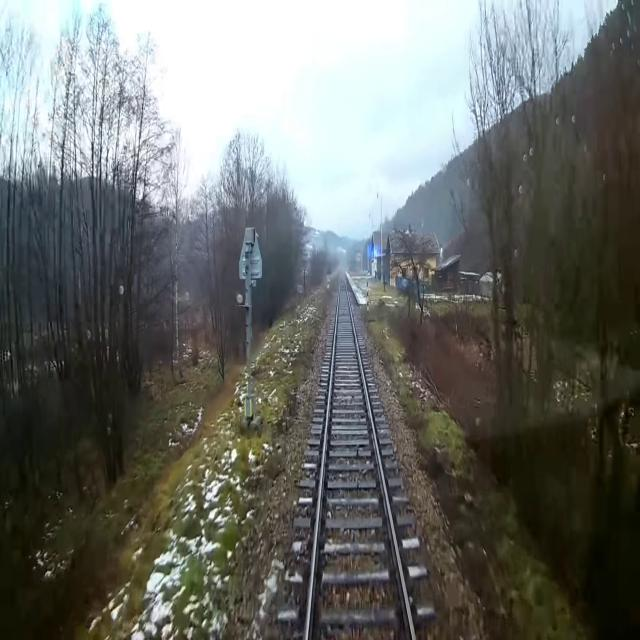rail-track: (308, 271, 411, 639)
